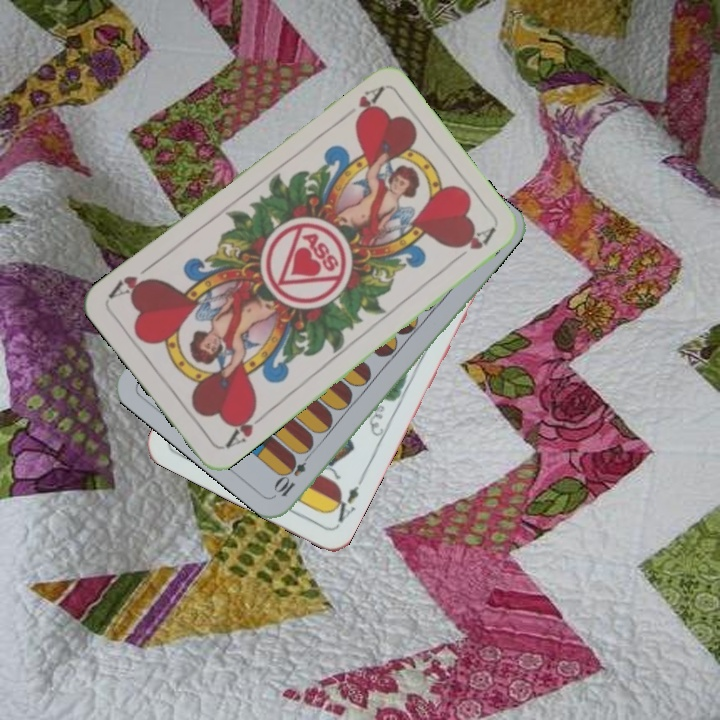E10: (271, 446, 315, 500)
EA: (325, 473, 366, 528)
HA: (221, 403, 270, 451), (334, 83, 385, 126)
